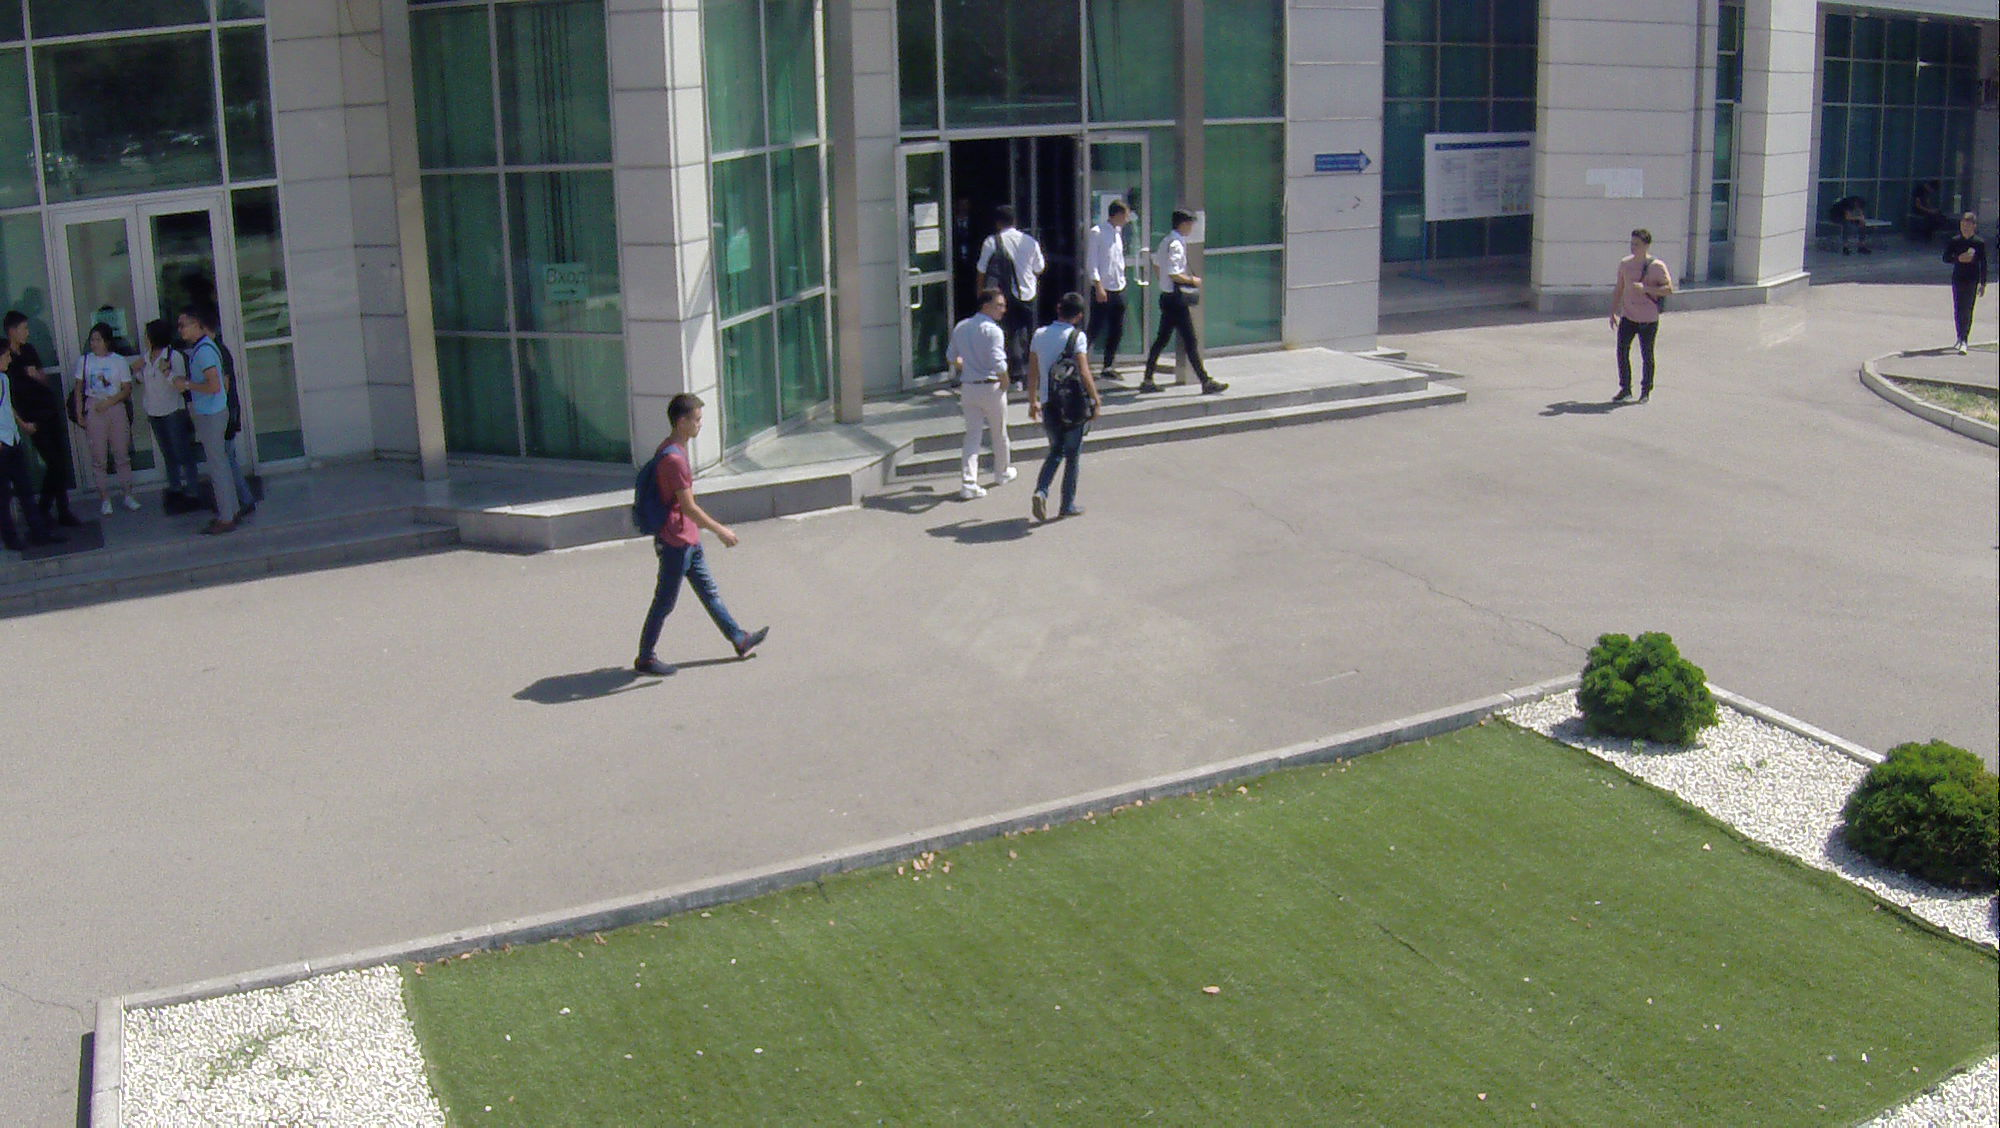person: (617, 373, 774, 694), (173, 293, 249, 544), (1030, 292, 1103, 531), (1138, 204, 1216, 407), (946, 283, 1018, 500), (2, 300, 69, 525), (71, 318, 145, 521), (136, 308, 196, 516), (1604, 226, 1671, 407), (1083, 198, 1138, 386), (982, 195, 1043, 337), (1943, 211, 1991, 367)
